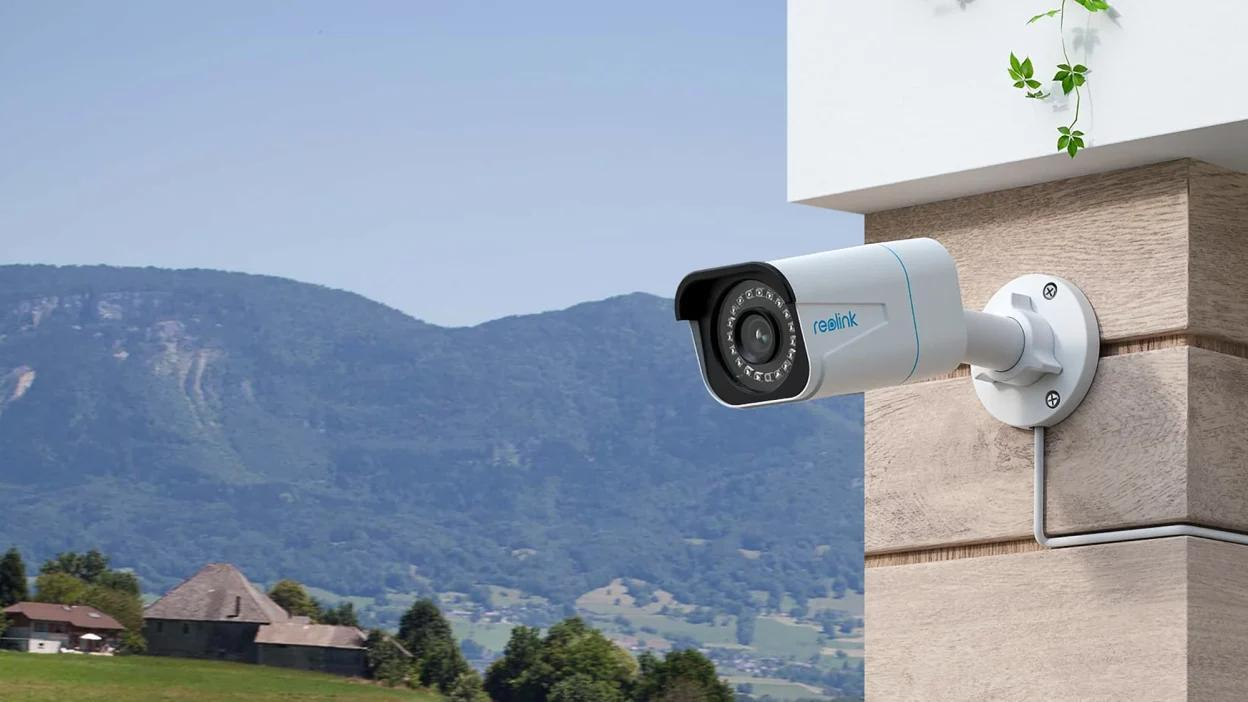------------------------------: (650, 229, 1031, 444)
